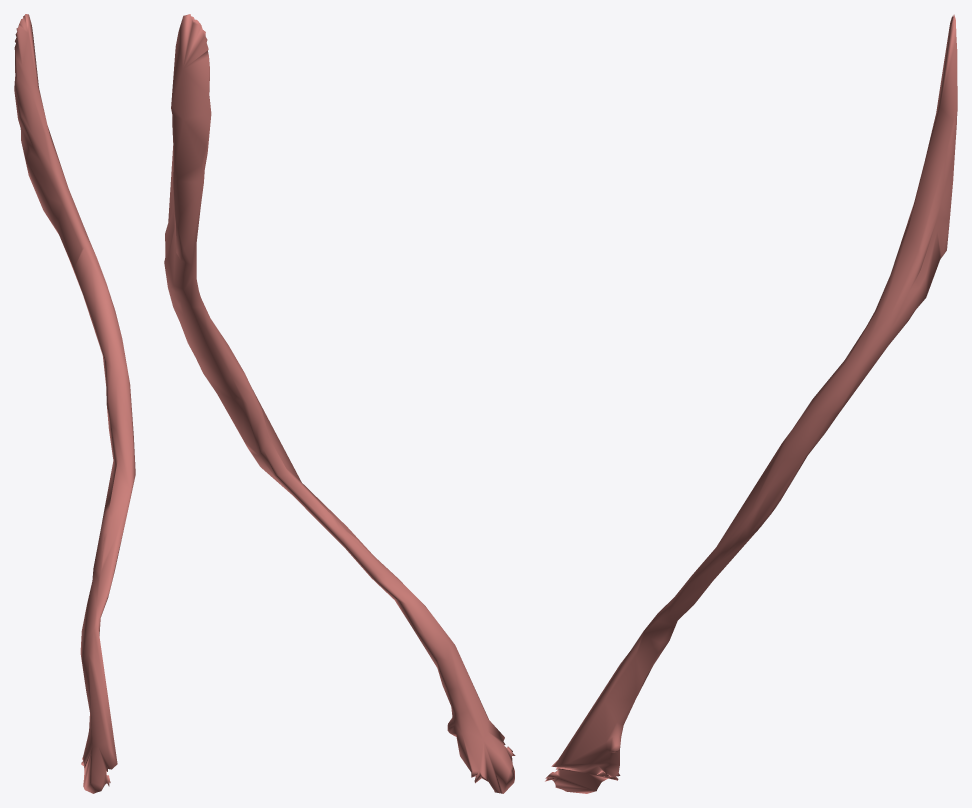
3 views of the same model, side by side, from view 1: azimuth 30°, elevation 25°; view 2: azimuth 150°, elevation 25°; view 3: azimuth 270°, elevation 25° (orthographic). The views are drawn at different scales.
Parts seen in each view (by area): view 1: ZA_158b6e63a82bc9d4; view 2: ZA_158b6e63a82bc9d4; view 3: ZA_158b6e63a82bc9d4.
Part boxes in pixels (x1=…): ZA_158b6e63a82bc9d4: x1=14, y1=14, x2=135, y2=793; ZA_158b6e63a82bc9d4: x1=164, y1=14, x2=515, y2=793; ZA_158b6e63a82bc9d4: x1=545, y1=14, x2=957, y2=793.
Bounding box in the file's own units: 0.0255 × 0.1229 × 0.0553.
